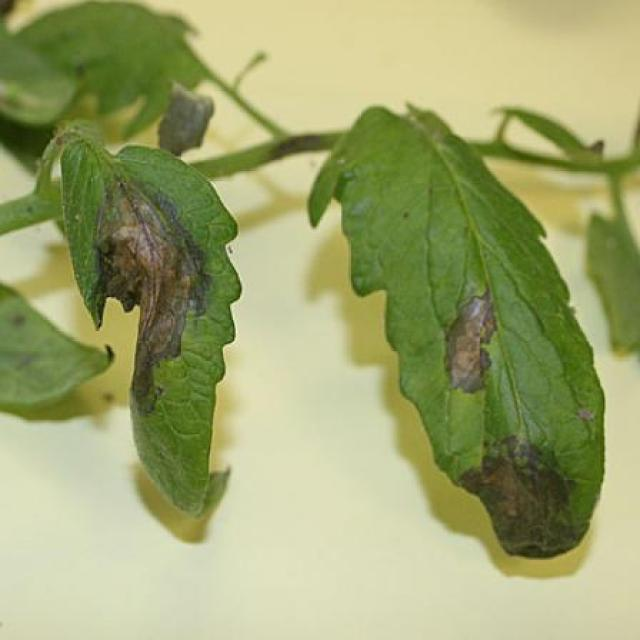Late Blight: (304, 99, 606, 566), (59, 118, 240, 516)
